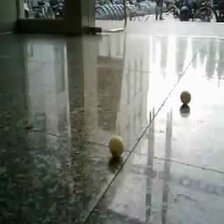w: (108, 135, 126, 157), (179, 91, 192, 104)
